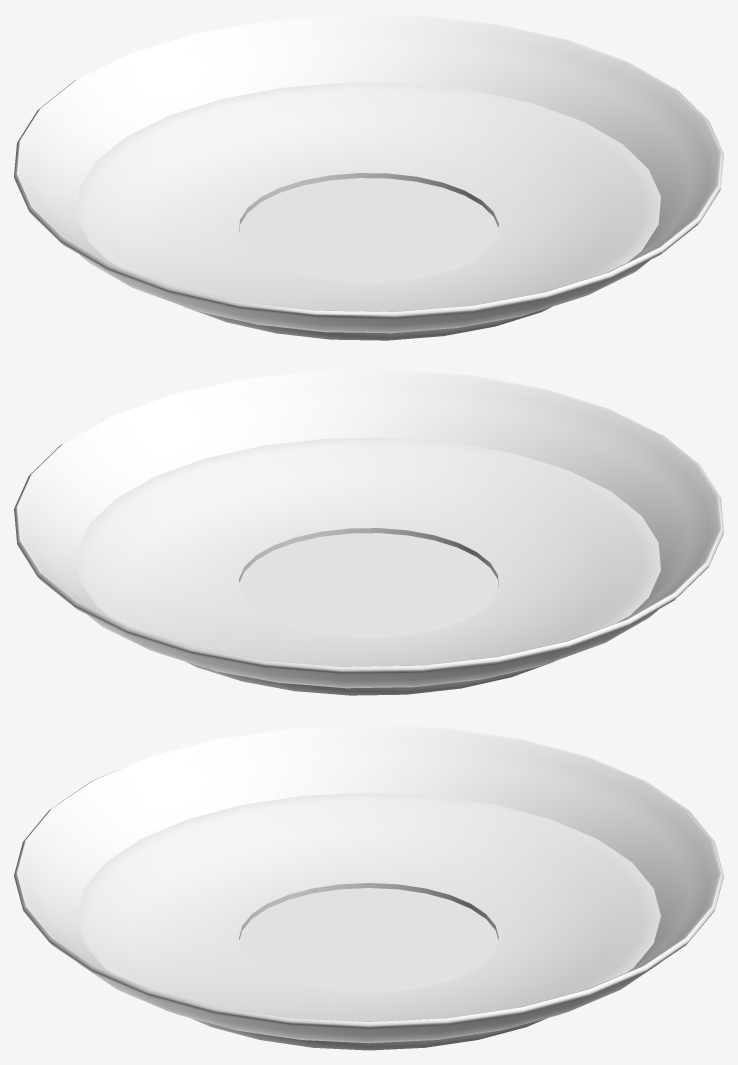
Rendered from Saucer.fbx.
3 views of the same model, one above another, from view 1: azimuth 30°, elevation 25°; view 2: azimuth 150°, elevation 25°; view 3: azimuth 270°, elevation 25° (orthographic).
Visible parts, largest first — view 1: Saucer; view 2: Saucer; view 3: Saucer.
Part boxes in pixels (x1,y1,x2,y2): Saucer: (14,14,723,340); Saucer: (14,369,723,695); Saucer: (14,724,723,1050).
Bounding box in the file's own units: 12.81 × 1.41 × 12.81.
Materials: 1 (1 with a texture image).
